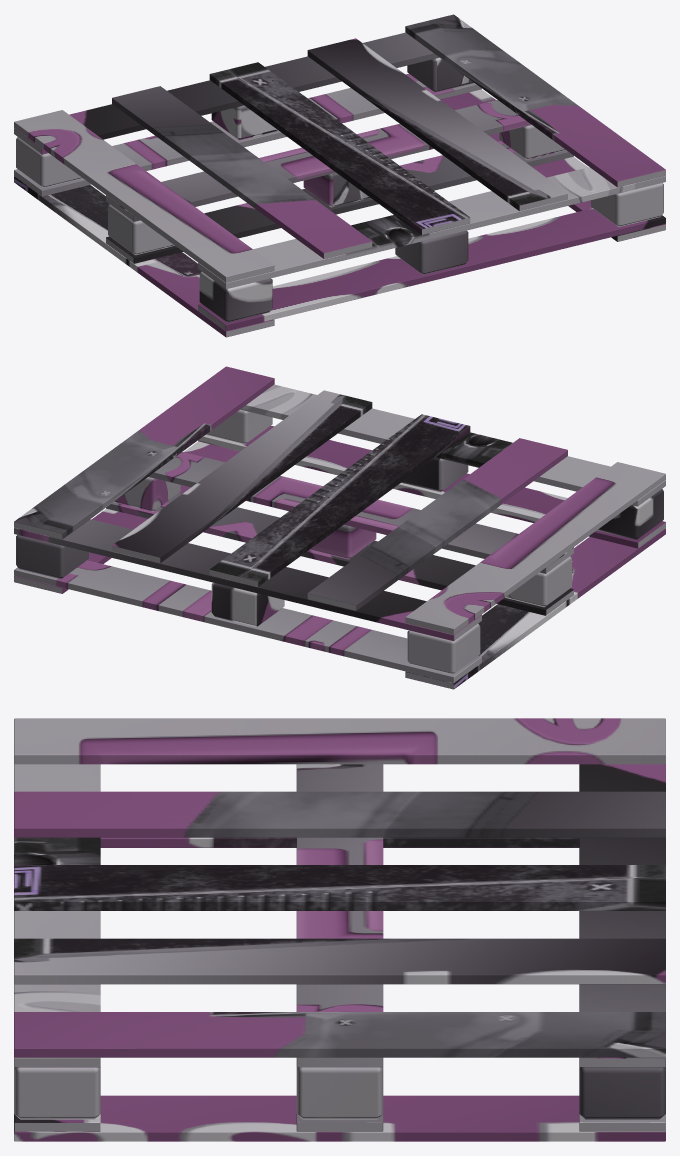
Rendered from SM_WoodPallete.fbx.
3 views of the same model, one above another, from view 1: azimuth 30°, elevation 25°; view 2: azimuth 150°, elevation 25°; view 3: azimuth 270°, elevation 25° (orthographic). The views are drawn at different scales.
Visible parts, largest first — view 1: Wood Pallete - Upper.001, Wood Pallete - middle.001, Wood Pallete - Blocks.001, Wood Pallete - bottom.001; view 2: Wood Pallete - Upper.001, Wood Pallete - middle.001, Wood Pallete - Blocks.001, Wood Pallete - bottom.001; view 3: Wood Pallete - Upper.001, Wood Pallete - middle.001, Wood Pallete - bottom.001, Wood Pallete - Blocks.001.
Part boxes in pixels (x1,y1,x2,y2): Wood Pallete - Upper.001: (14,14,665,282); Wood Pallete - middle.001: (14,32,665,330); Wood Pallete - Blocks.001: (16,57,663,322); Wood Pallete - bottom.001: (14,89,665,337); Wood Pallete - Upper.001: (14,366,665,634); Wood Pallete - middle.001: (14,384,665,682); Wood Pallete - Blocks.001: (16,409,663,674); Wood Pallete - bottom.001: (14,441,665,689); Wood Pallete - Upper.001: (14,718,665,1057); Wood Pallete - middle.001: (14,764,665,1131); Wood Pallete - bottom.001: (14,837,665,1141); Wood Pallete - Blocks.001: (14,1067,665,1119).
Size of the model in its own units: 121 by 101 by 15.99.
